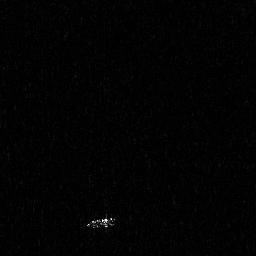ship: (83, 210, 118, 231)
